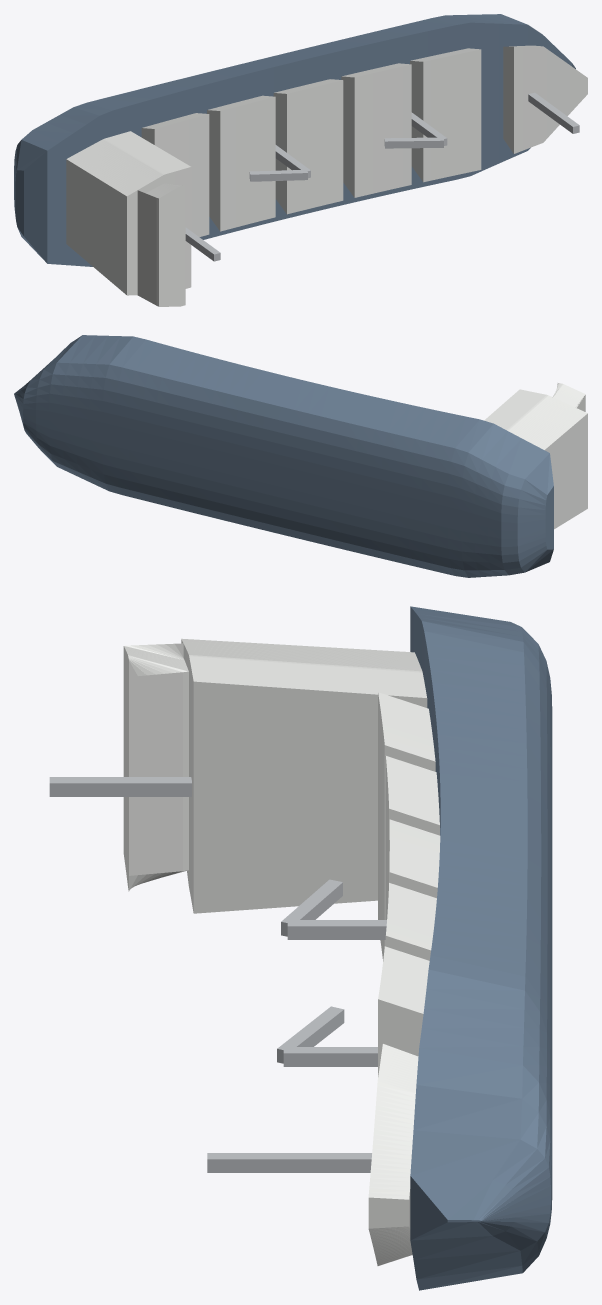
Rendered from loft-bulker-sheered.glb.
3 views of the same model, one above another, from view 1: azimuth 30°, elevation 25°; view 2: azimuth 150°, elevation 25°; view 3: azimuth 270°, elevation 25° (orthographic). The views are drawn at different scales.
Visible parts, largest first — view 1: loft-bulker-sheered; view 2: loft-bulker-sheered; view 3: loft-bulker-sheered.
Boxes of the visible parts, x1=… form: loft-bulker-sheered: x1=14, y1=14, x2=587, y2=306; loft-bulker-sheered: x1=14, y1=335, x2=587, y2=577; loft-bulker-sheered: x1=49, y1=606, x2=552, y2=1290.
Bounding box in the file's own units: 1.96 × 0.525 × 0.8027.
